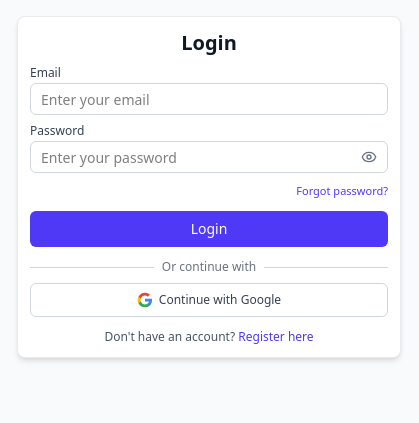
Login Component › Form Submission - Error Cases › should display error message when API returns error with non-JSON response
Type "test@example.com" into the field labelled "Email".
click(209, 99); type("test@example.com")  # box [30,83,388,115]
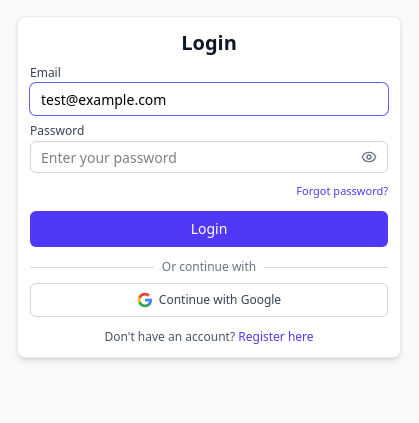
Type "password123" into the password field labelled "Password".
click(209, 157); type("password123")  # box [30,141,388,173]
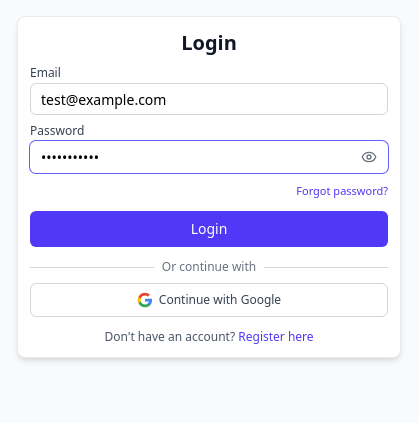
Click the button "Login".
click(209, 229)  # box [30,211,388,247]
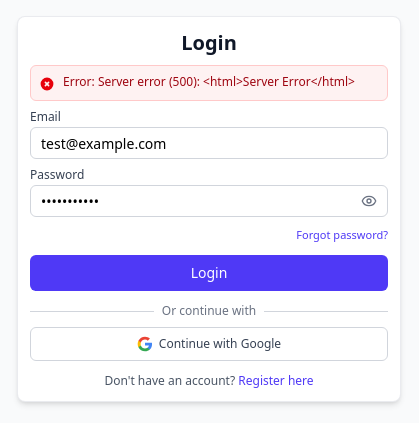
Check: the text "Error: Server error (500): <html>Server Error</html>" is shown, box [63,74,355,90]
